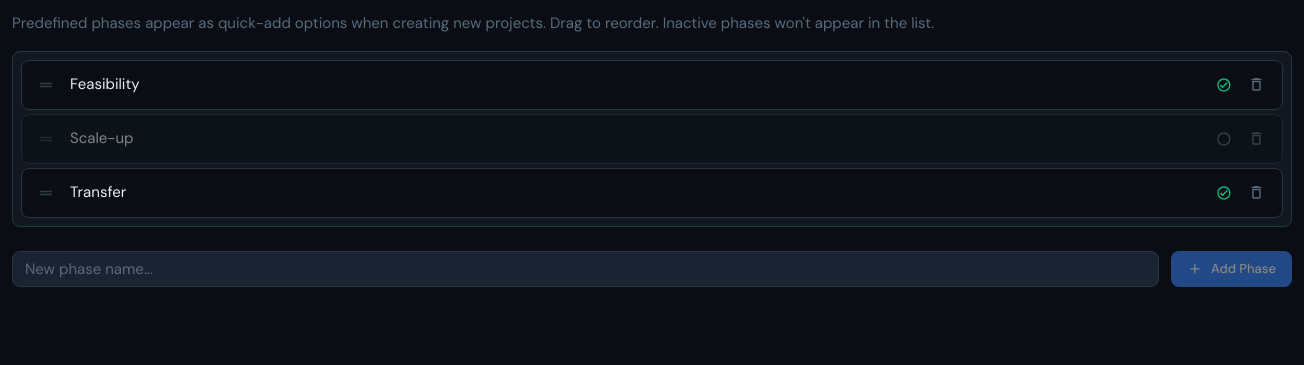
Test: PredefinedPhasesPanel › shows the error in place when adding fails and keeps the typed name
Check: the text "Feasibility" is shown, box [70, 74, 140, 94]
Type "Feasibility" into the field with placeholder "New phase name...".
click(586, 268); type("Feasibility")  # box [12, 250, 1159, 286]
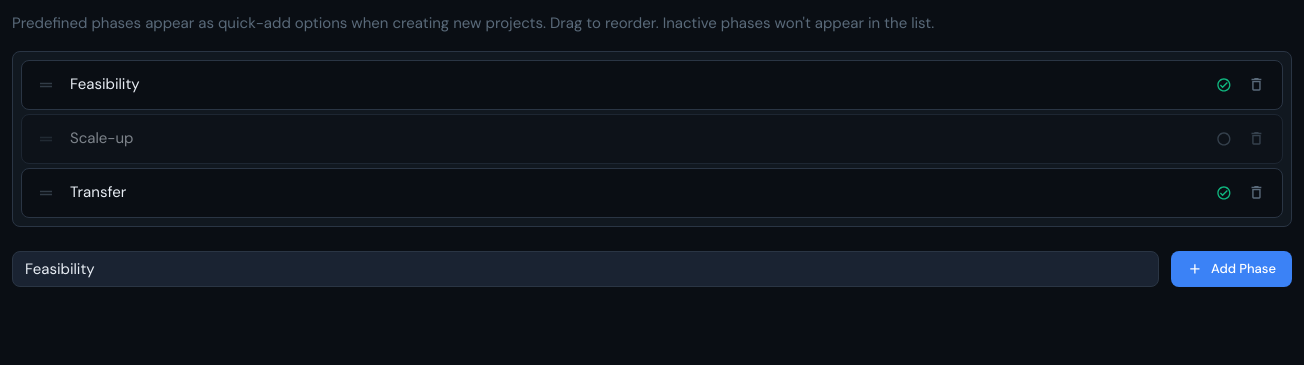
Press Enter in the field with placeholder "New phase name...", box [12, 250, 1159, 286]
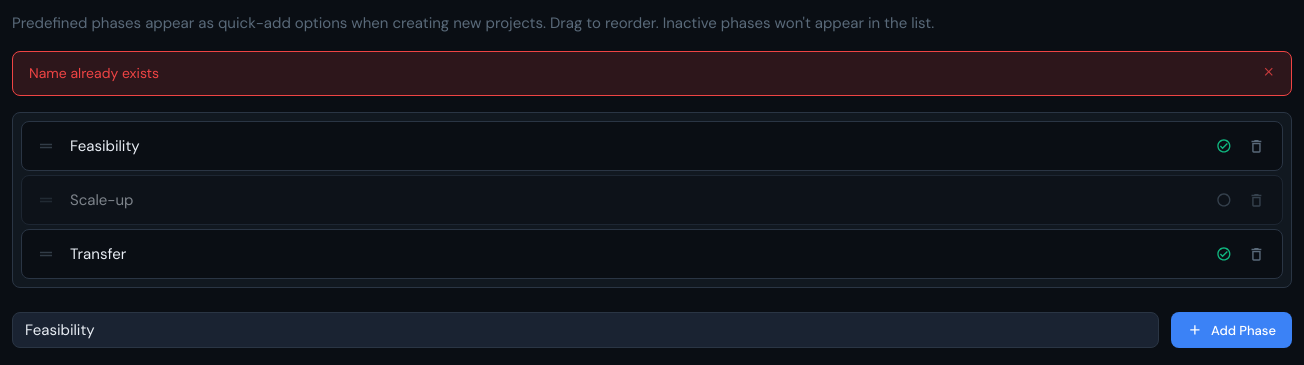
Check: the message reads "Name already exists", box [29, 64, 159, 82]
